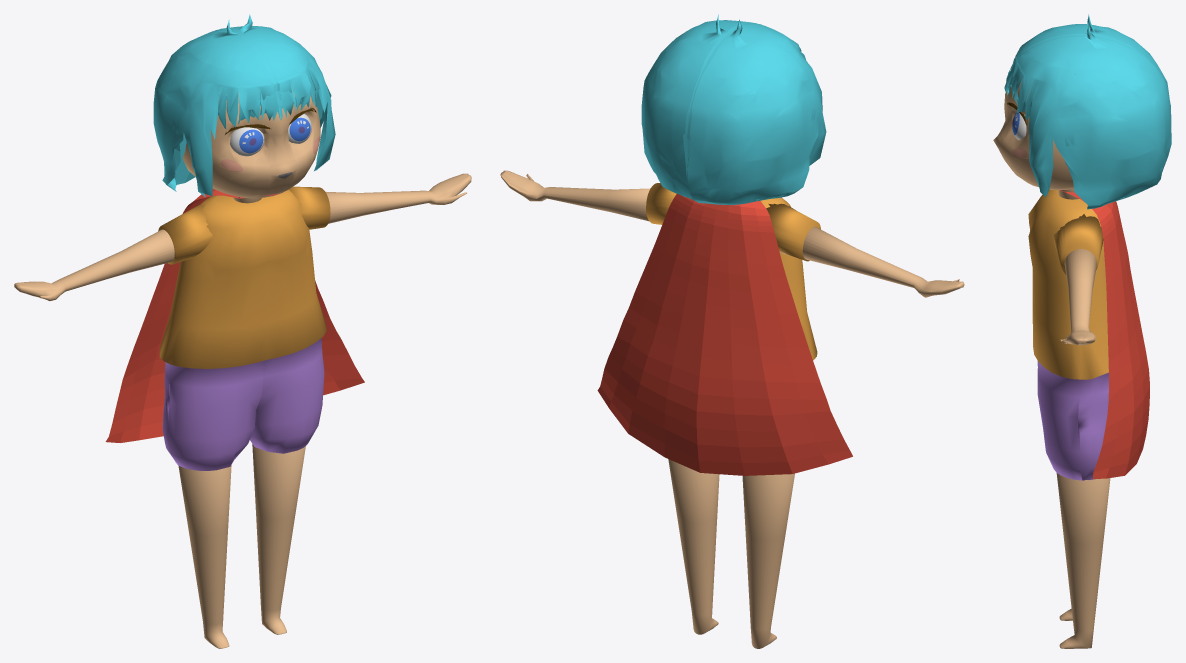
File: Player2.fbx
3 views of the same model, side by side, from view 1: azimuth 30°, elevation 25°; view 2: azimuth 150°, elevation 25°; view 3: azimuth 270°, elevation 25° (orthographic).
Visible parts, largest first — view 1: Body, Hear, RReg, mant, Head, RArm, Eye; view 2: mant, Hear, RReg, RArm, Body; view 3: Hear, Body, mant, RReg, Head, RArm, Eye.
Part boxes in pixels (box(x1,y1,x2,y2)): Body: box(158, 186, 330, 470); Hear: box(153, 14, 335, 197); RReg: box(178, 444, 305, 648); mant: box(105, 188, 364, 442); Head: box(182, 92, 320, 198); RArm: box(14, 173, 471, 300); Eye: box(230, 113, 311, 156); mant: box(597, 194, 852, 475); Hear: box(641, 14, 826, 205); RReg: box(668, 459, 794, 648); RArm: box(500, 170, 964, 297); Body: box(646, 183, 820, 360); Hear: box(1004, 14, 1171, 209); Body: box(1028, 189, 1108, 480); mant: box(1060, 190, 1149, 478); RReg: box(1056, 473, 1110, 648); Head: box(993, 77, 1073, 190); RArm: box(1060, 249, 1096, 345); Eye: box(1012, 112, 1026, 140).
Size of the model in its own units: 334 by 431 by 114.
